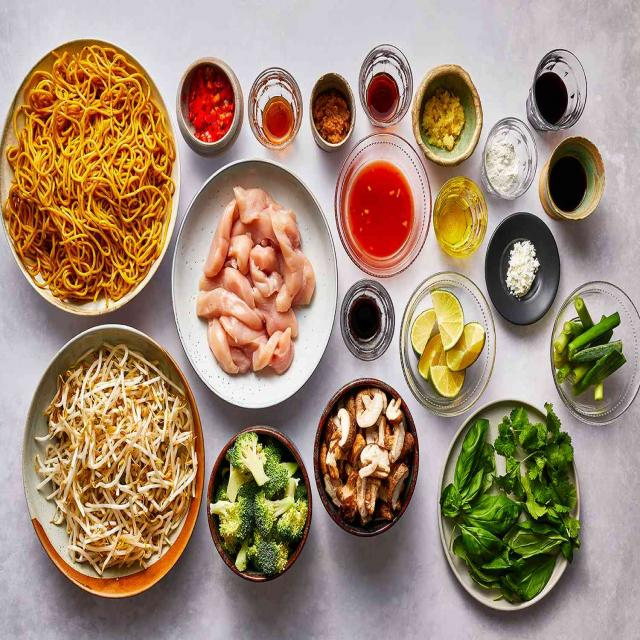Mushroom: (320, 386, 416, 529)
